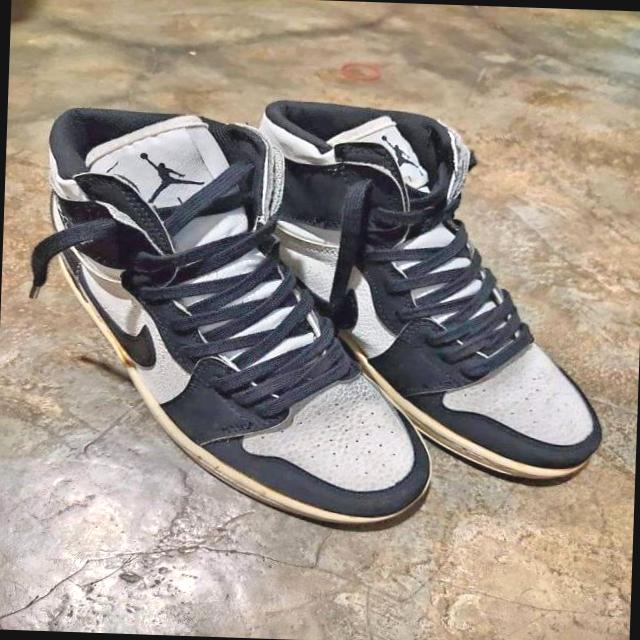nike_fake_jordan: (0, 100, 447, 535), (245, 94, 612, 490)
